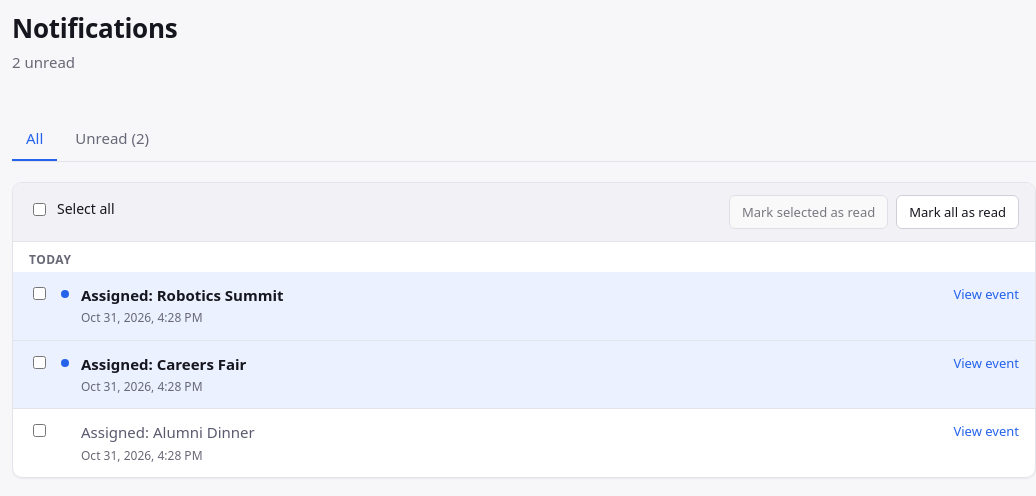
Test: marking as read › select all picks every visible row, and is partially checked in between
Expected: the text "Assigned: Robotics Summit" is shown, x1=81 y1=284 x2=346 y2=305
Click the checkbox named "Select: Assigned: Careers Fair": [40, 362] box x1=33 y1=356 x2=46 y2=369
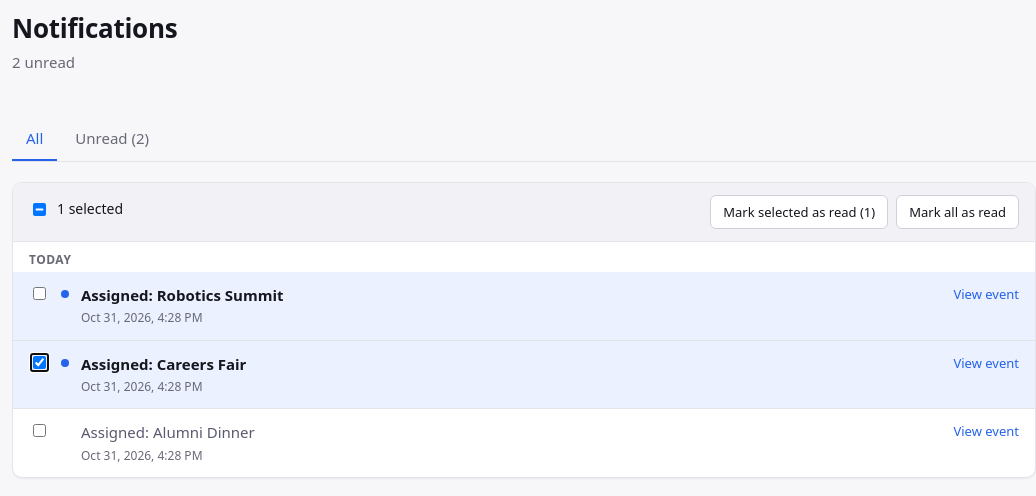
Click the checkbox named "Select all": [40, 209] box x1=33 y1=203 x2=46 y2=216
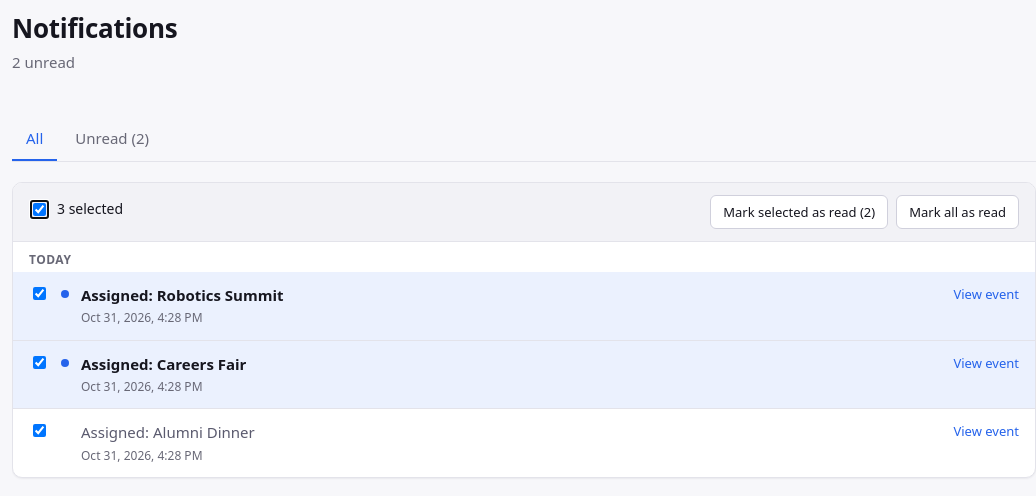
Now the checkbox named "Select all" is checked, box x1=33 y1=203 x2=46 y2=216
Now the checkbox named "Select: Assigned: Careers Fair" is checked, box x1=33 y1=356 x2=46 y2=369
Now the checkbox named "Select: Assigned: Robotics Summit" is checked, box x1=33 y1=287 x2=46 y2=300
Click the button "Mark selected as read (2)": [799, 212] box x1=710 y1=195 x2=888 y2=229
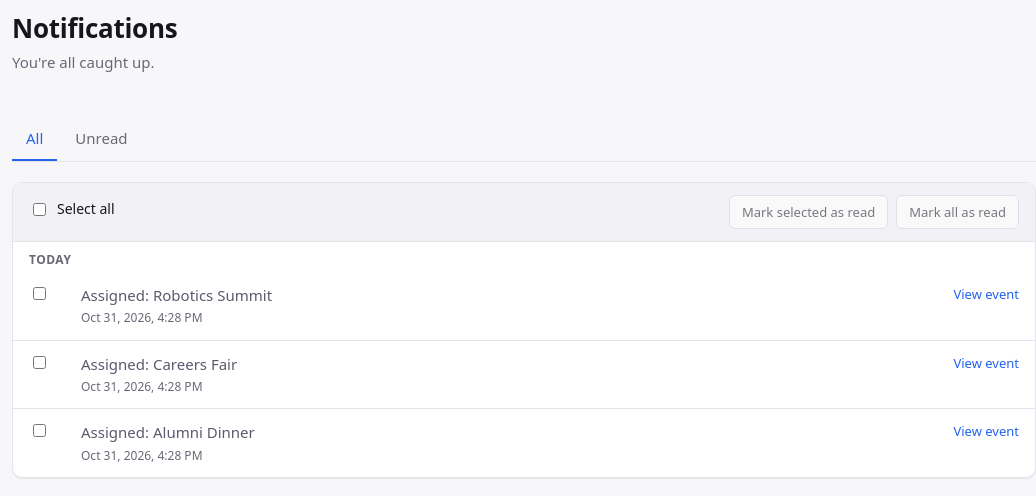
Now the text "You're all caught up." is shown, box x1=12 y1=50 x2=178 y2=74
